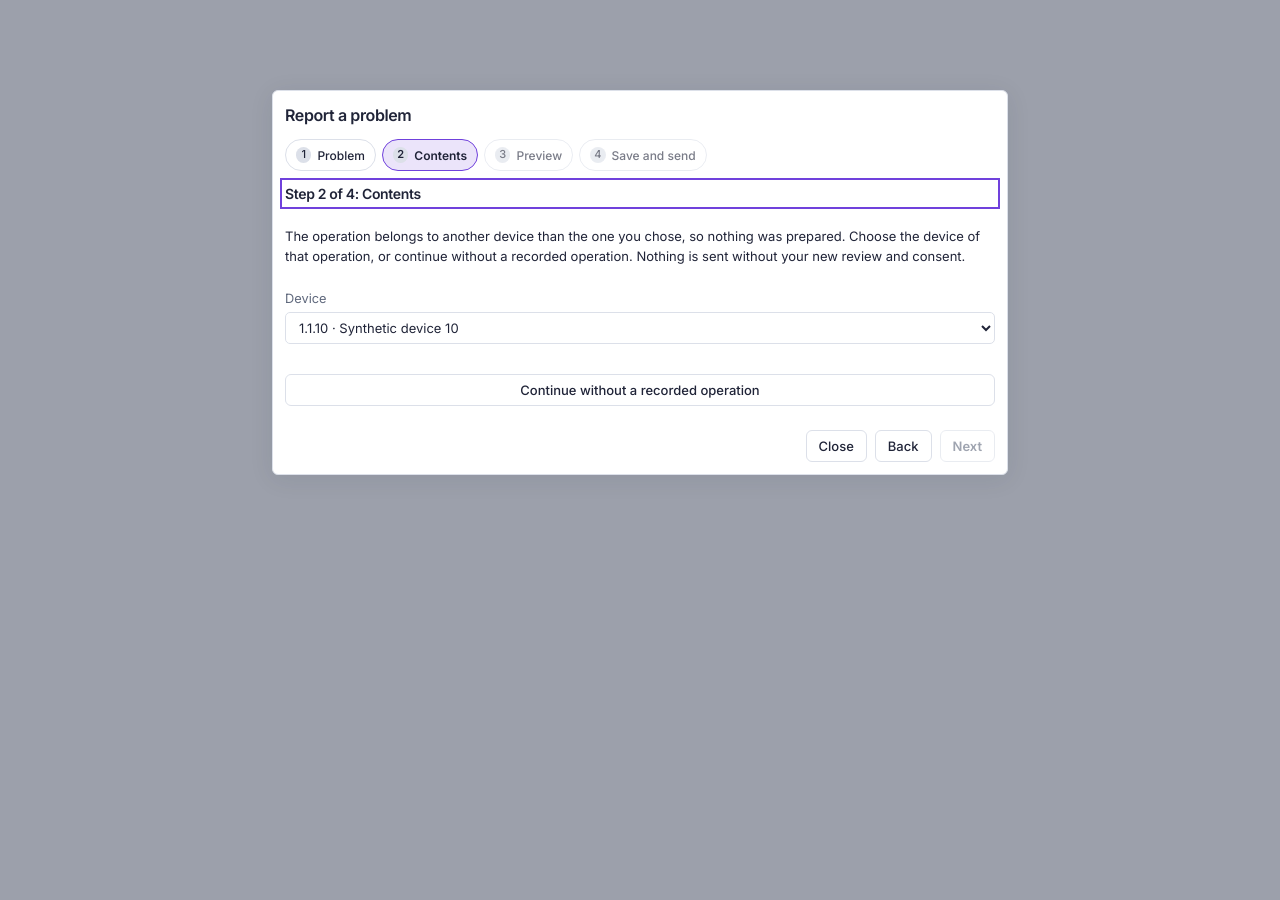
Test case: a refused device target › on the first preview stays correctable: no operation resets to selection none and keeps device B
The width and height of the screenshot is (1280, 900).
Expected: the message is shown, [285, 227, 995, 266]
Expected: the dropdown labelled "Device" shows "1.1.10 · Synthetic device 10", [285, 312, 995, 344]
Click the button "Continue without a recorded operation" at coordinates (640, 390), box [285, 374, 995, 406]
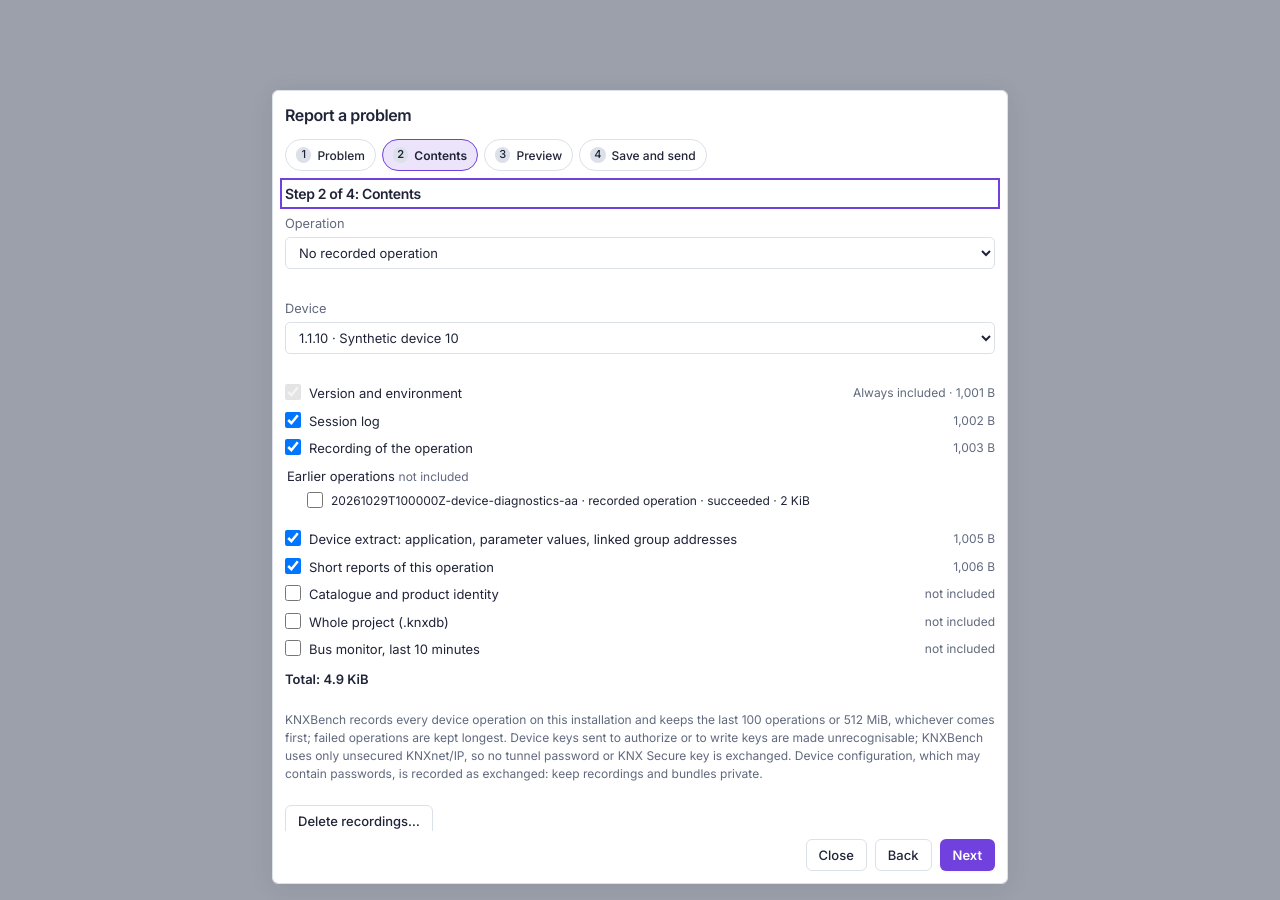
Expected: the dropdown labelled "Device" shows "1.1.10 · Synthetic device 10", [285, 322, 995, 354]
Expected: the button "3 Preview" is enabled, [484, 139, 573, 171]
Expected: the button "4 Save and send" is enabled, [579, 139, 707, 171]
